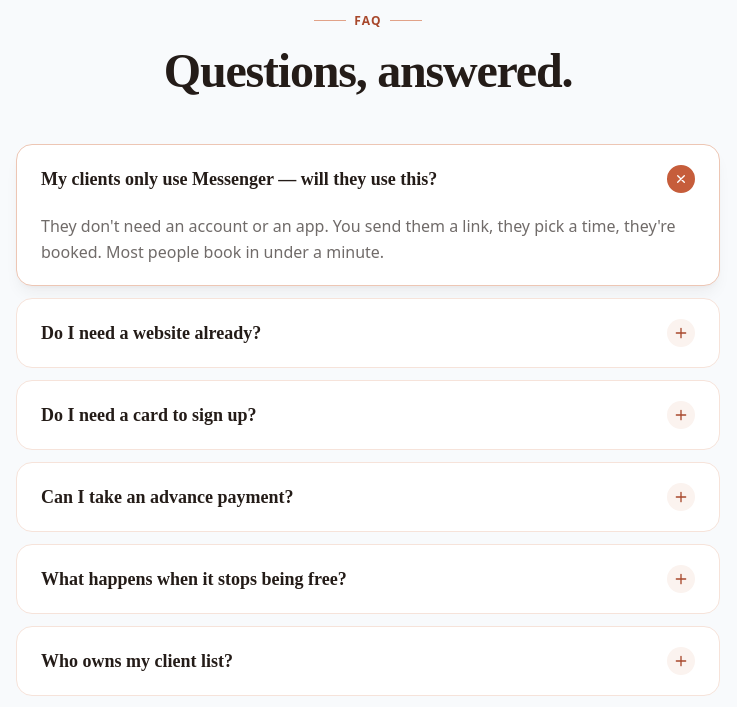
Test case: FaqSection › opens the first answer and closes it again on a second click
Click the button "My clients only use Messenger — will they use this?".
click(368, 179)  # box [17,145,719,213]
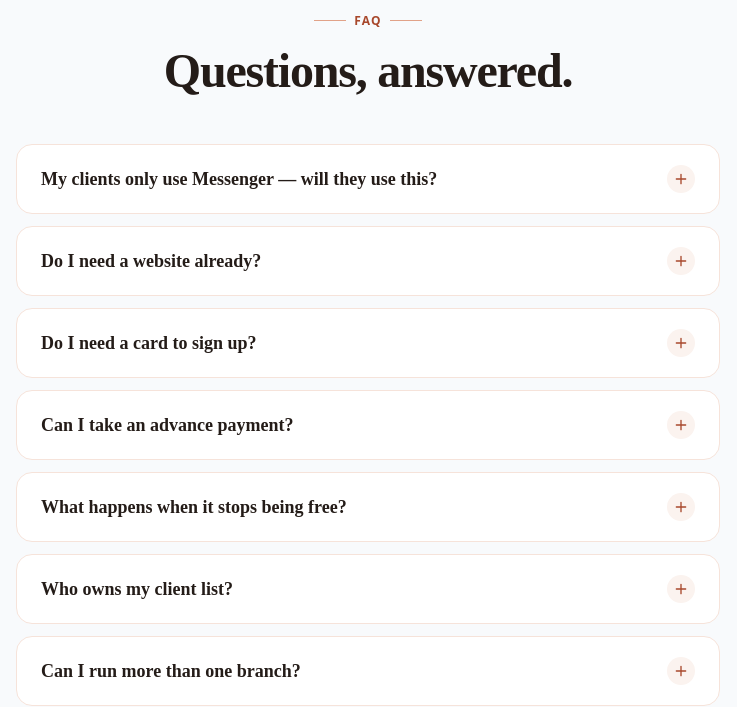
expect the button "My clients only use Messenger — will they use this?" is collapsed: met, box [17,145,719,213]
